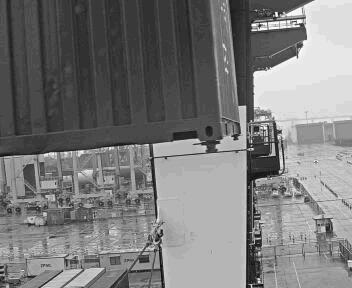twist_lock_1: (215, 129, 238, 146)
